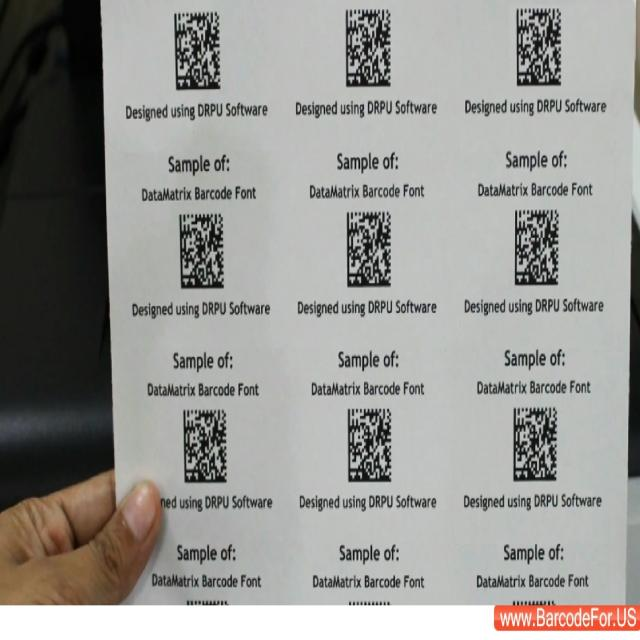datamatrix: (345, 5, 394, 91), (513, 207, 564, 289), (174, 9, 223, 94), (516, 5, 564, 88), (346, 207, 394, 290), (179, 210, 227, 292), (348, 404, 394, 486), (513, 404, 560, 484), (183, 406, 229, 484)
